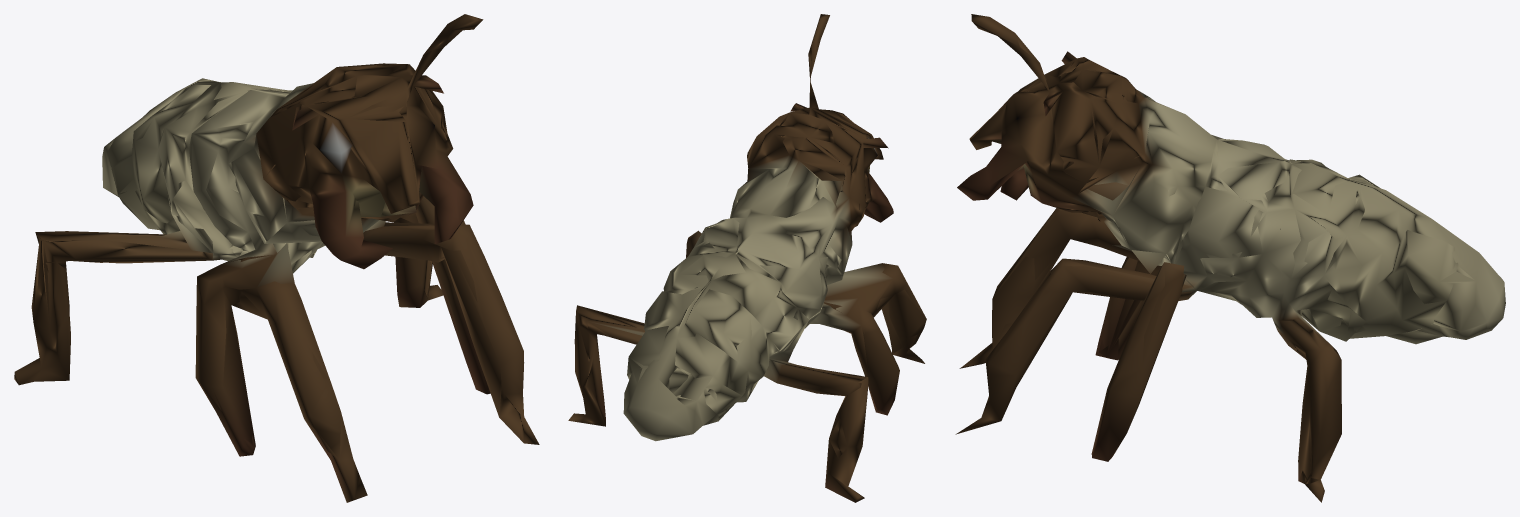
The model's file is gen3d-termite-lod0.glb.
3 views of the same model, side by side, from view 1: azimuth 30°, elevation 25°; view 2: azimuth 150°, elevation 25°; view 3: azimuth 270°, elevation 25° (orthographic). The views are drawn at different scales.
Parts seen in each view (by area): view 1: part_0; view 2: part_0; view 3: part_0.
Boxes of the visible parts, left/top/right/bottom form: part_0: left=14, top=14, right=539, bottom=502; part_0: left=568, top=14, right=926, bottom=502; part_0: left=955, top=14, right=1505, bottom=502.
Size of the model in its own units: 0.9419 by 0.9832 by 1.18.
